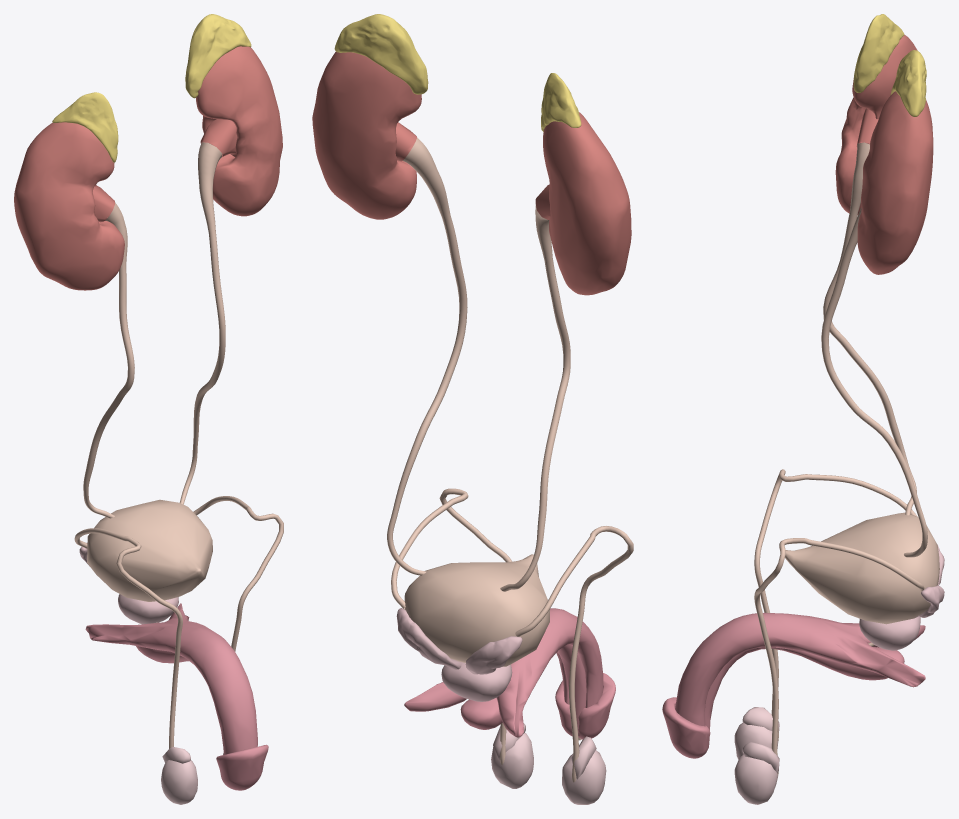
Rendered from urogenital_system.glb.
The picture shows the model from 3 angles, left to right: view 1: azimuth 30°, elevation 25°; view 2: azimuth 150°, elevation 25°; view 3: azimuth 270°, elevation 25°; orthographic projection. The views are drawn at different scales.
Parts seen in each view (by area): view 1: Uro_Kidney_Right, Uro_Kidney_Left, Uro_Bladder, Uro_Penis_Cavernosum, Uro_Ureter_Left, Uro_Adrenal_Left, Uro_Ureter_Right, Uro_Adrenal_Right, Uro_DuctusDeferens_Right, Uro_Penis_Glans, Uro_Testis_Right, Uro_DuctusDeferens_Left (+1 smaller); view 2: Uro_Kidney_Left, Uro_Kidney_Right, Uro_Bladder, Uro_Penis_Cavernosum, Uro_Ureter_Left, Uro_Adrenal_Left, Uro_Ureter_Right, Uro_DuctusDeferens_Right, Uro_Penis_Spongiosum, Uro_Prostate, Uro_DuctusDeferens_Left, Uro_Penis_Glans (+5 smaller); view 3: Uro_Bladder, Uro_Kidney_Left, Uro_Penis_Cavernosum, Uro_Kidney_Right, Uro_Ureter_Left, Uro_Ureter_Right, Uro_DuctusDeferens_Left, Uro_Adrenal_Right, Uro_DuctusDeferens_Right, Uro_Penis_Spongiosum, Uro_Adrenal_Left, Uro_Testis_Left (+5 smaller).
Boxes of the visible parts, <box> form: Uro_Kidney_Right: <box>14,122,124,290</box>; Uro_Kidney_Left: <box>196,46,282,216</box>; Uro_Bladder: <box>87,499,212,601</box>; Uro_Penis_Cavernosum: <box>85,603,257,754</box>; Uro_Ureter_Left: <box>179,142,225,504</box>; Uro_Adrenal_Left: <box>185,14,251,98</box>; Uro_Ureter_Right: <box>83,202,134,518</box>; Uro_Adrenal_Right: <box>52,92,118,162</box>; Uro_DuctusDeferens_Right: <box>74,528,182,748</box>; Uro_Penis_Glans: <box>216,744,268,790</box>; Uro_Testis_Right: <box>161,760,197,804</box>; Uro_DuctusDeferens_Left: <box>193,496,283,651</box>; Uro_Kidney_Left: <box>312,52,421,219</box>; Uro_Kidney_Right: <box>535,112,631,295</box>; Uro_Bladder: <box>404,554,549,666</box>; Uro_Penis_Cavernosum: <box>404,608,603,737</box>; Uro_Ureter_Left: <box>387,137,467,575</box>; Uro_Adrenal_Left: <box>334,14,428,94</box>; Uro_Ureter_Right: <box>500,205,570,591</box>; Uro_DuctusDeferens_Right: <box>515,526,633,782</box>; Uro_Penis_Spongiosum: <box>460,644,586,736</box>; Uro_Prostate: <box>441,661,512,701</box>; Uro_DuctusDeferens_Left: <box>391,488,511,764</box>; Uro_Penis_Glans: <box>555,673,615,739</box>; Uro_Bladder: <box>785,512,939,624</box>; Uro_Kidney_Left: <box>857,91,933,274</box>; Uro_Penis_Cavernosum: <box>675,612,925,726</box>; Uro_Kidney_Right: <box>835,34,917,215</box>; Uro_Ureter_Left: <box>821,208,927,557</box>; Uro_Ureter_Right: <box>823,142,916,515</box>; Uro_DuctusDeferens_Left: <box>754,538,924,775</box>; Uro_Adrenal_Right: <box>853,14,904,92</box>; Uro_DuctusDeferens_Right: <box>754,469,917,742</box>; Uro_Penis_Spongiosum: <box>704,647,904,747</box>; Uro_Adrenal_Left: <box>890,50,926,116</box>; Uro_Testis_Left: <box>734,754,777,804</box>.
Size of the model in its own units: 0.178 by 0.4566 by 0.151.
